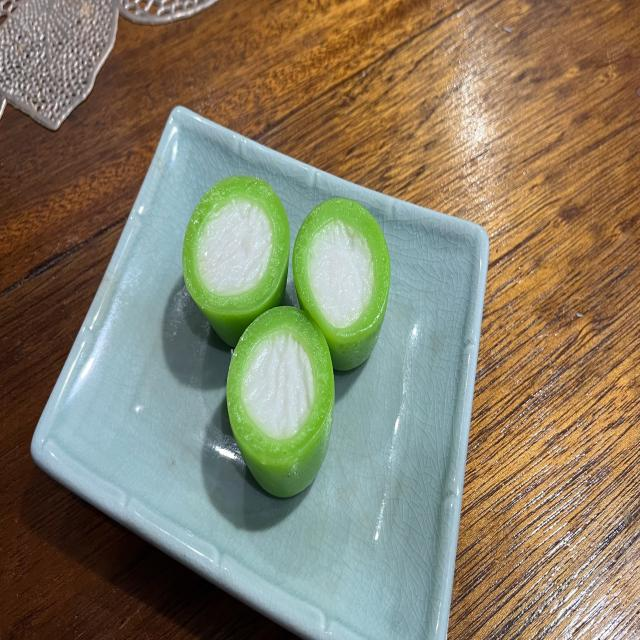nona-manis: (226, 307, 335, 498), (182, 176, 290, 347), (292, 198, 390, 371)
